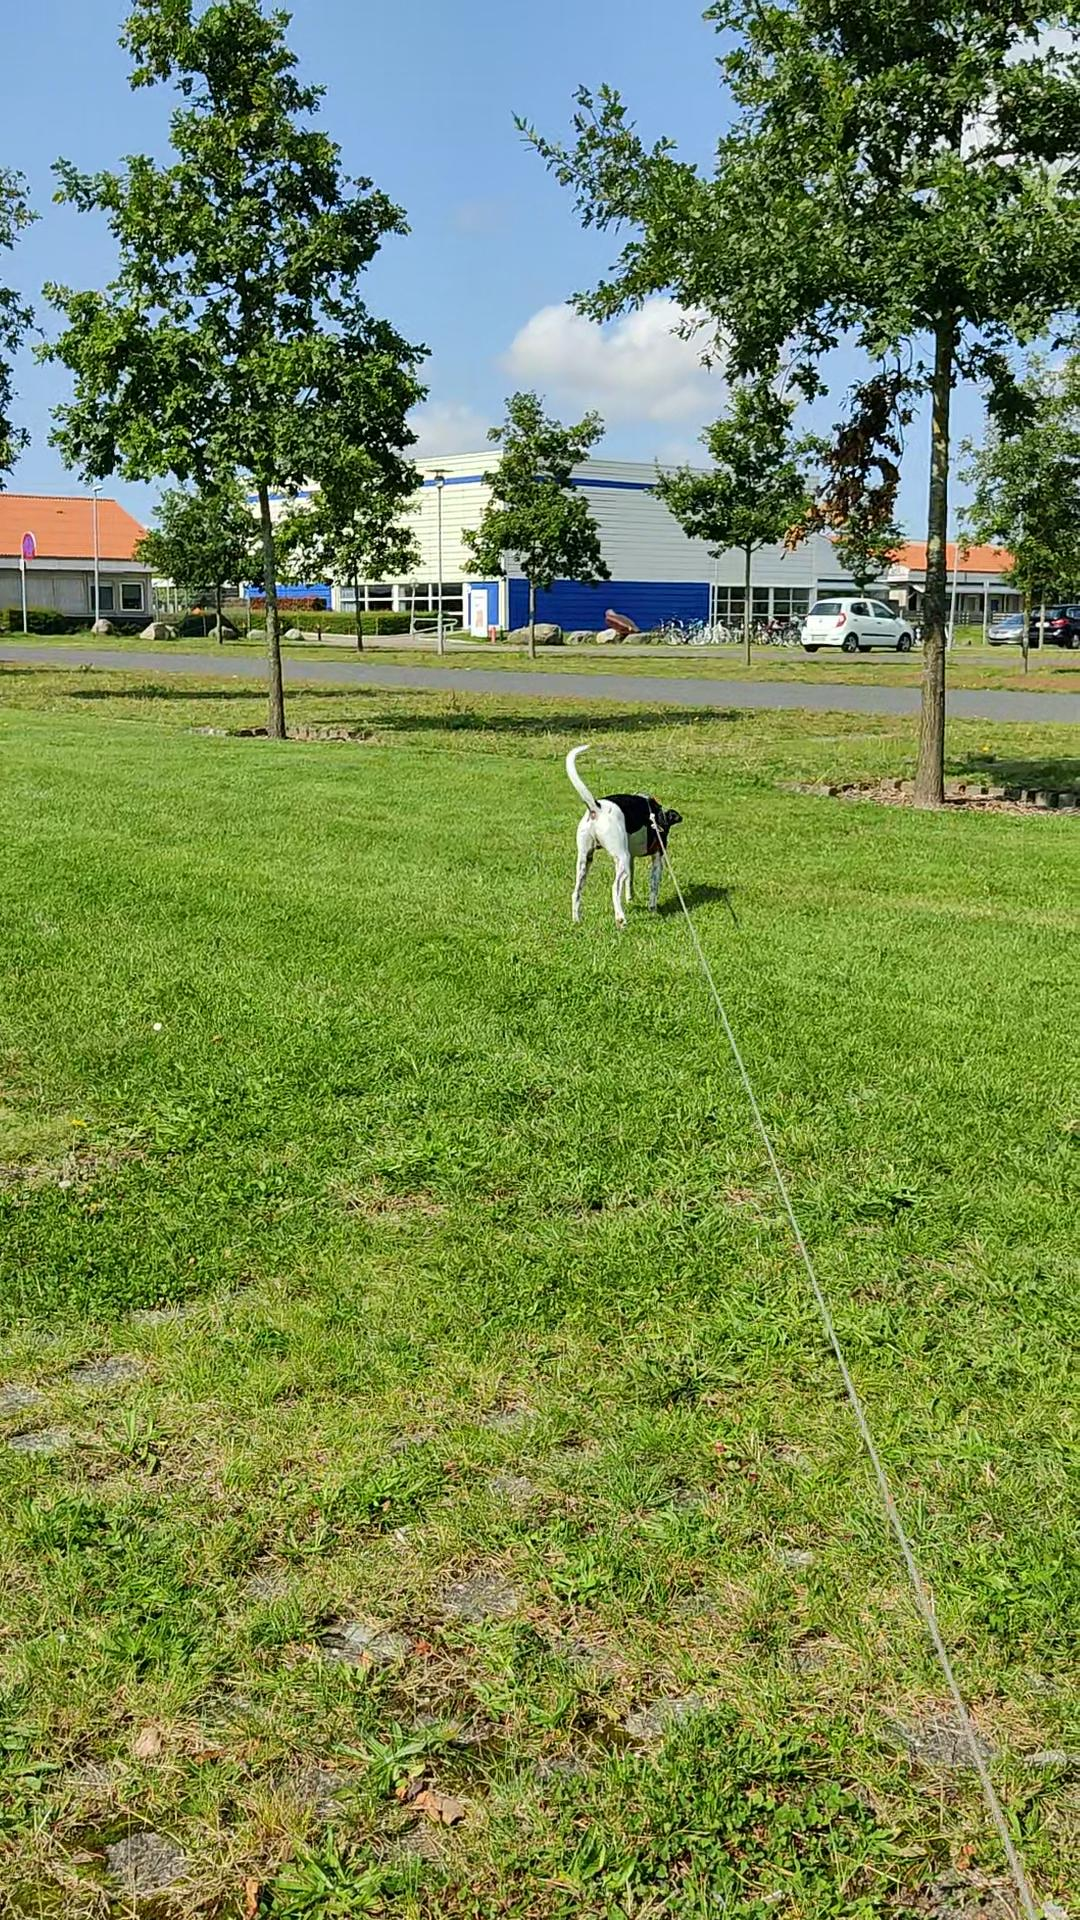Dog: (560, 742, 688, 932)
